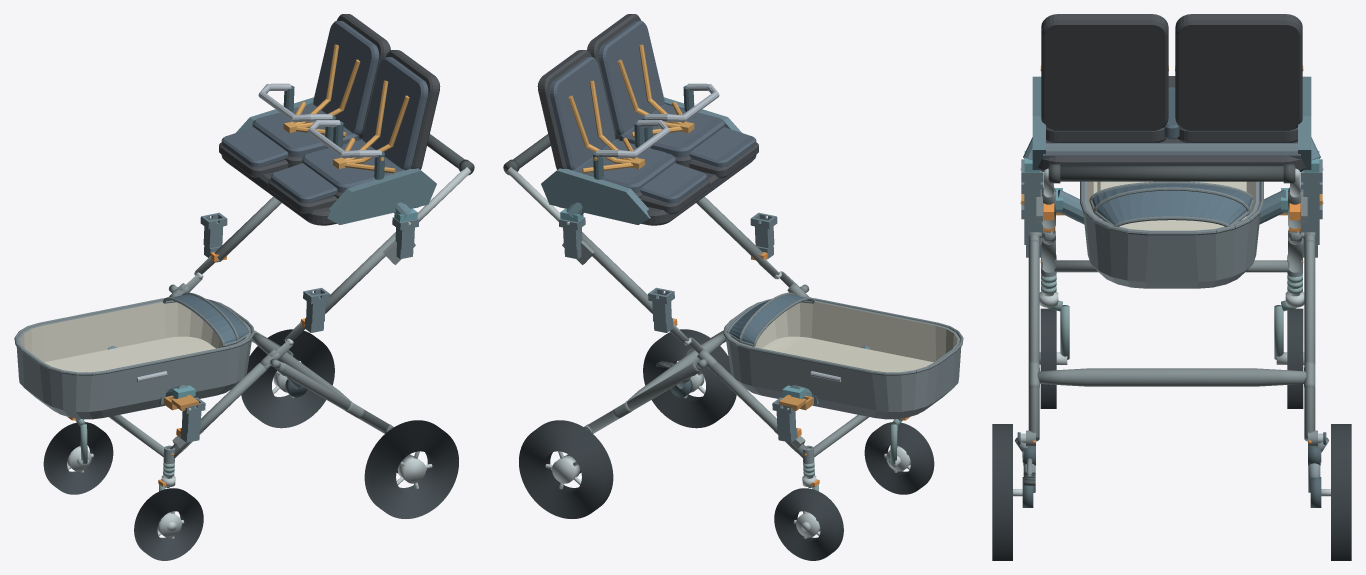
The model's file is D24_w650_state1_wheel_M.glb.
The picture shows the model from 3 angles, left to right: view 1: azimuth 30°, elevation 25°; view 2: azimuth 150°, elevation 25°; view 3: azimuth 270°, elevation 25°; orthographic projection. The views are drawn at different scales.
Visible parts, largest first — view 1: D24_Upper, D24_Lower, RL_tire.008, RR_tire.008, FL_tire.008, FR_tire.008, V46_rear_leg_-1.009, main_lower_-1.009, main_upper_-1.009, main_upper_1.009, Universal_Cabin_Receiver_M_-1, V46_rearbar.009 (+6 smaller); view 2: D24_Upper, D24_Lower, RR_tire.008, RL_tire.008, FR_tire.008, FL_tire.008, V46_rear_leg_1.009, main_lower_1.009, main_upper_1.009, main_upper_-1.009, Universal_Cabin_Receiver_M_1, V46_rearbar.009 (+6 smaller); view 3: D24_Upper, D24_Lower, V46_rearbar.009, round_handle.008, RL_tire.008, RR_tire.008, V46_rear_leg_1.009, V46_rear_leg_-1.009, FL_tire.008, FR_tire.008, D24_Lower_Mount_L, front_fixed_round_tube.008 (+5 smaller).
Boxes of the visible parts, left/top/right/bottom form: D24_Upper: left=219, top=14, right=440, bottom=225; D24_Lower: left=14, top=292, right=254, bottom=419; RL_tire.008: left=364, top=420, right=458, bottom=518; RR_tire.008: left=241, top=329, right=334, bottom=428; FL_tire.008: left=134, top=488, right=203, bottom=560; FR_tire.008: left=43, top=422, right=113, bottom=494; V46_rear_leg_-1.009: left=277, top=362, right=389, bottom=433; main_lower_-1.009: left=170, top=363, right=270, bottom=458; main_upper_-1.009: left=325, top=232, right=395, bottom=313; main_upper_1.009: left=214, top=196, right=281, bottom=261; Universal_Cabin_Receiver_M_-1: left=303, top=287, right=329, bottom=332; V46_rearbar.009: left=252, top=333, right=352, bottom=402; D24_Upper: left=537, top=14, right=758, bottom=225; D24_Lower: left=723, top=292, right=963, bottom=419; RR_tire.008: left=519, top=420, right=613, bottom=518; RL_tire.008: left=643, top=329, right=736, bottom=428; FR_tire.008: left=774, top=488, right=843, bottom=560; FL_tire.008: left=864, top=422, right=934, bottom=494; V46_rear_leg_1.009: left=588, top=362, right=700, bottom=433; main_lower_1.009: left=707, top=363, right=807, bottom=458; main_upper_1.009: left=582, top=232, right=652, bottom=313; main_upper_-1.009: left=696, top=196, right=763, bottom=261; Universal_Cabin_Receiver_M_1: left=648, top=287, right=674, bottom=332; V46_rearbar.009: left=625, top=333, right=725, bottom=402; D24_Upper: left=1032, top=14, right=1311, bottom=171; D24_Lower: left=1080, top=181, right=1263, bottom=288; V46_rearbar.009: left=1037, top=368, right=1306, bottom=386; round_handle.008: left=1048, top=166, right=1295, bottom=181; RL_tire.008: left=992, top=424, right=1012, bottom=560; RR_tire.008: left=1331, top=424, right=1351, bottom=560; V46_rear_leg_1.009: left=1304, top=239, right=1315, bottom=441; V46_rear_leg_-1.009: left=1028, top=239, right=1039, bottom=441; FL_tire.008: left=1040, top=308, right=1056, bottom=408; FR_tire.008: left=1287, top=308, right=1303, bottom=408; D24_Lower_Mount_L: left=1055, top=188, right=1288, bottom=224; front_fixed_round_tube.008: left=1054, top=260, right=1289, bottom=272.
Bounding box in the file's own units: 1.38 × 1.37 × 0.7871.
